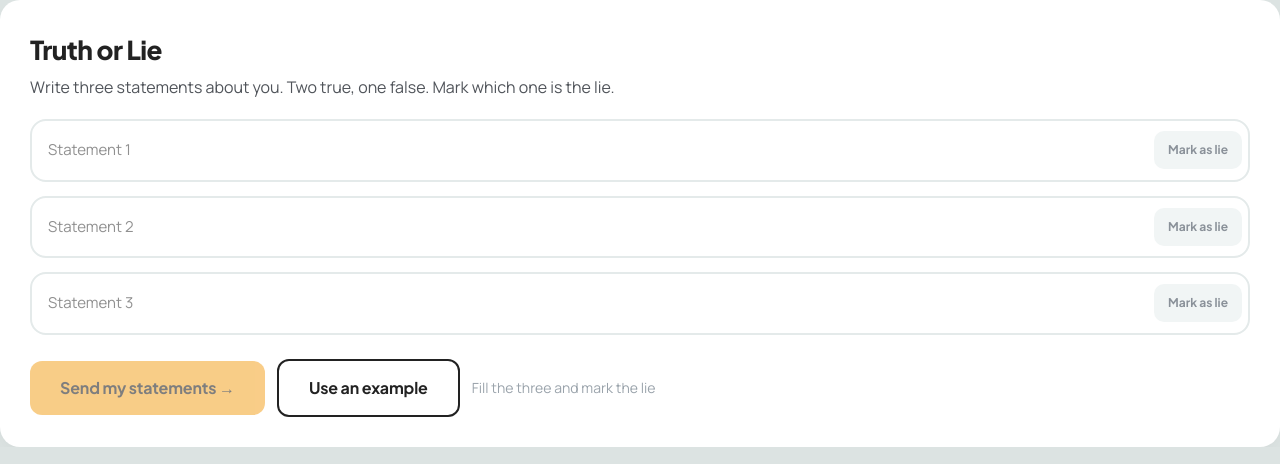
Scenario: WriteStatementsView › does not overwrite fields the player already filled in, only the blank ones
Step 1. Type "My own statement" into the field with placeholder "Statement 1" → [595, 150], box [48, 127, 1142, 174]
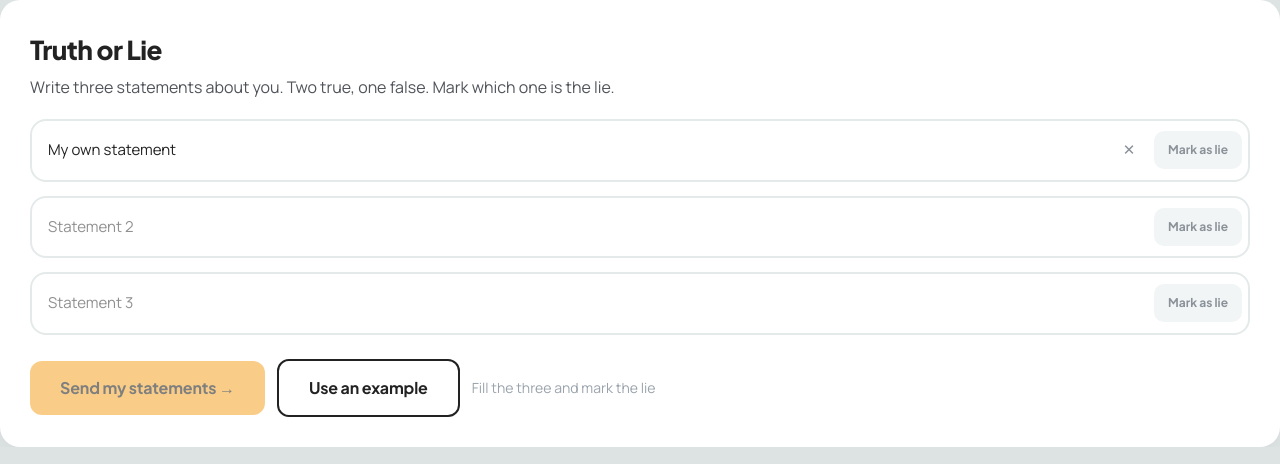
Step 2. Click the button "Use an example" → [368, 388], box [277, 358, 460, 416]
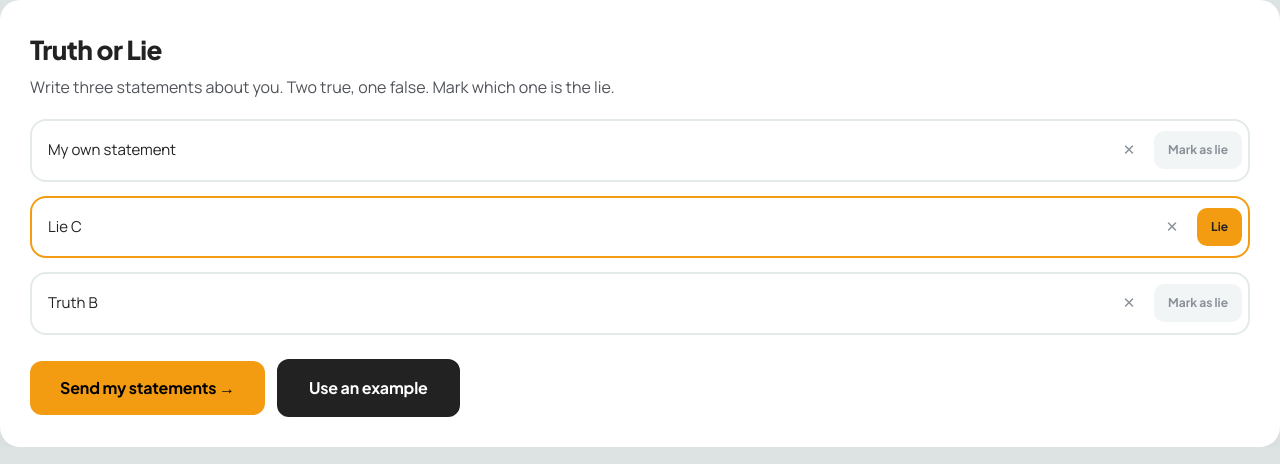
Expected: the 2nd field with placeholder "Statement 2" is not empty, [48, 204, 1147, 250]
